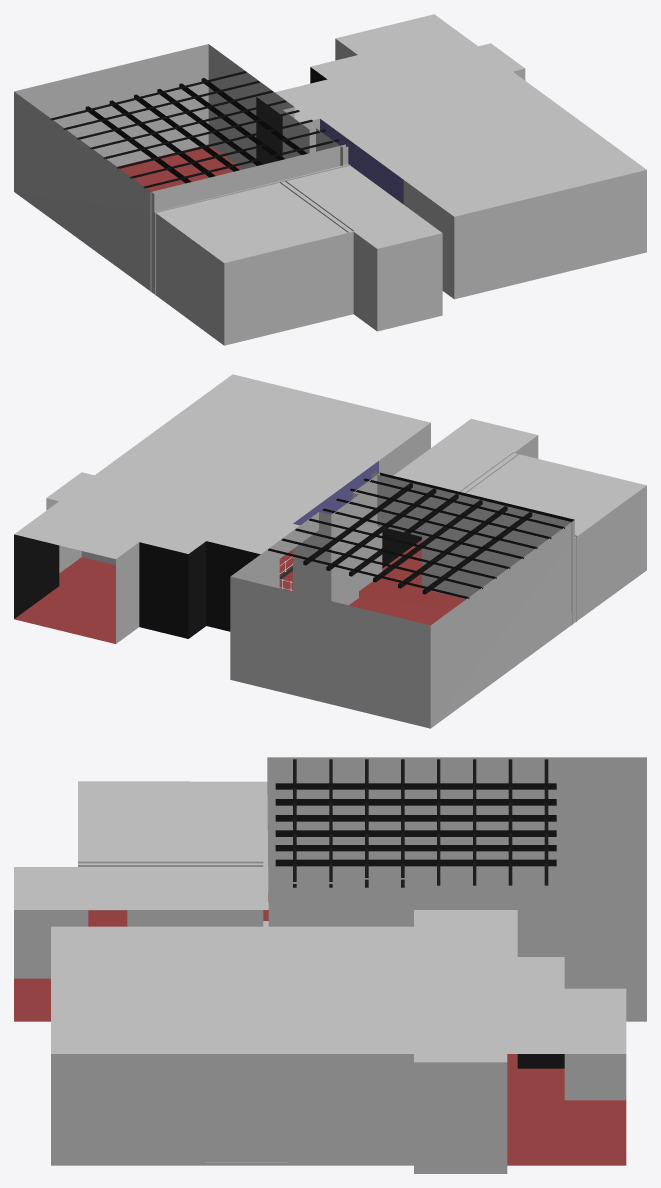
The model's file is Basic-Space.fbx.
3 views of the same model, one above another, from view 1: azimuth 30°, elevation 25°; view 2: azimuth 150°, elevation 25°; view 3: azimuth 270°, elevation 25° (orthographic). The views are drawn at different scales.
Parts seen in each view (by area): view 1: Wall-Box-Exhibition, Wall-Arc-2; view 2: Wall-Box-Exhibition, Wall-Arc-2; view 3: Wall-Box-Exhibition, Wall-Arc-1.
Boxes of the visible parts, left/top/right/bottom form: Wall-Box-Exhibition: left=14, top=14, right=646, bottom=345; Wall-Arc-2: left=150, top=144, right=350, bottom=295; Wall-Box-Exhibition: left=14, top=374, right=646, bottom=728; Wall-Arc-2: left=371, top=473, right=576, bottom=624; Wall-Box-Exhibition: left=14, top=757, right=646, bottom=1173; Wall-Arc-1: left=78, top=861, right=263, bottom=926.
Bounding box in the file's own units: 30.76 × 6.93 × 29.28.
